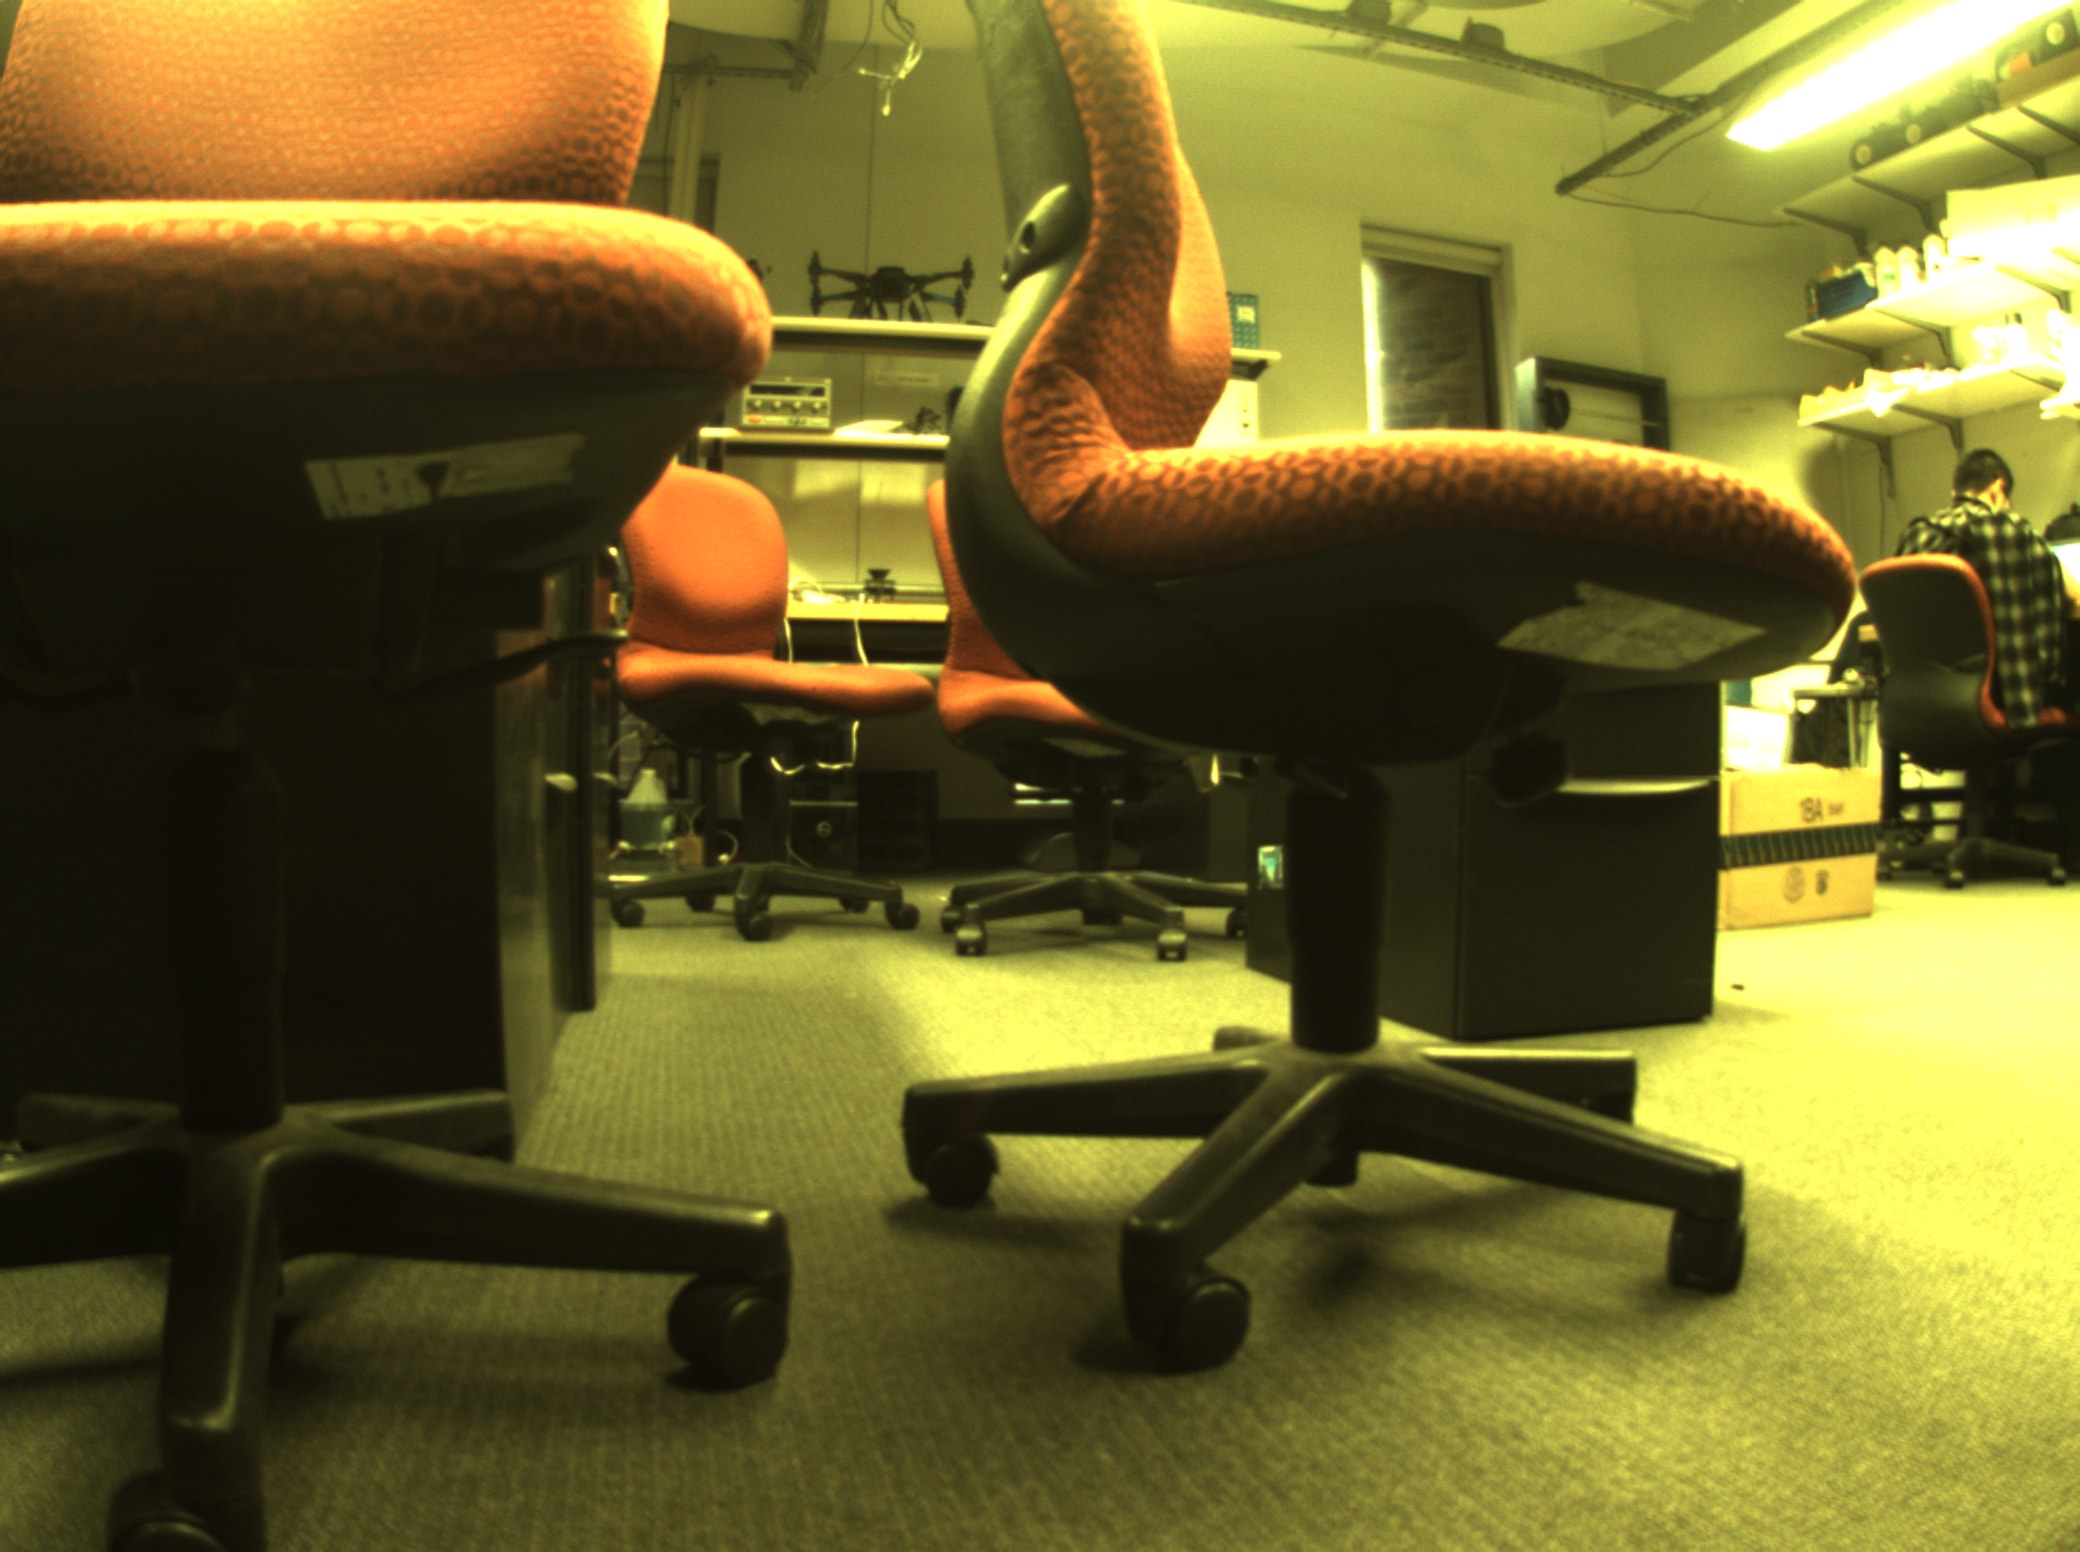chair: (913, 2, 1858, 1400), (2, 8, 820, 1531), (597, 430, 932, 959), (916, 497, 1258, 990), (1844, 548, 2070, 902)
